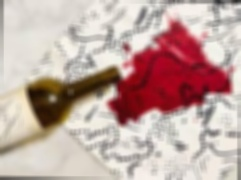wine: (119, 27, 224, 121)
